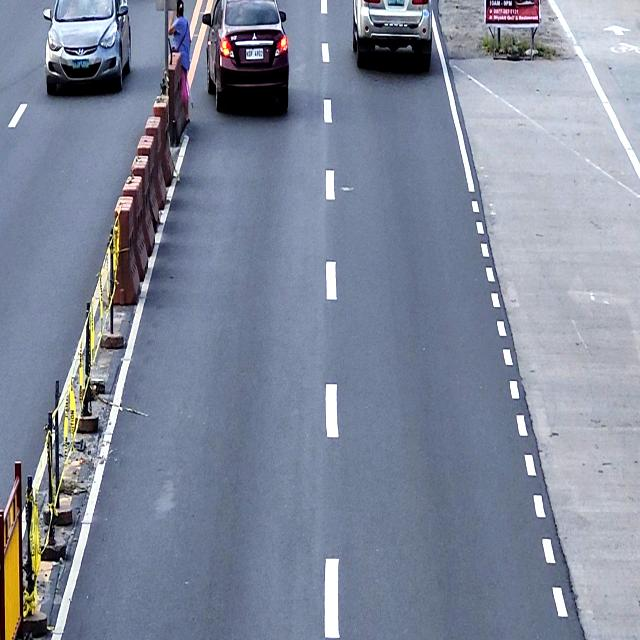Car: (202, 0, 289, 118), (42, 0, 132, 95), (352, 0, 432, 75)
License-Plate: (246, 48, 264, 60), (73, 60, 89, 70), (386, 0, 404, 6)
